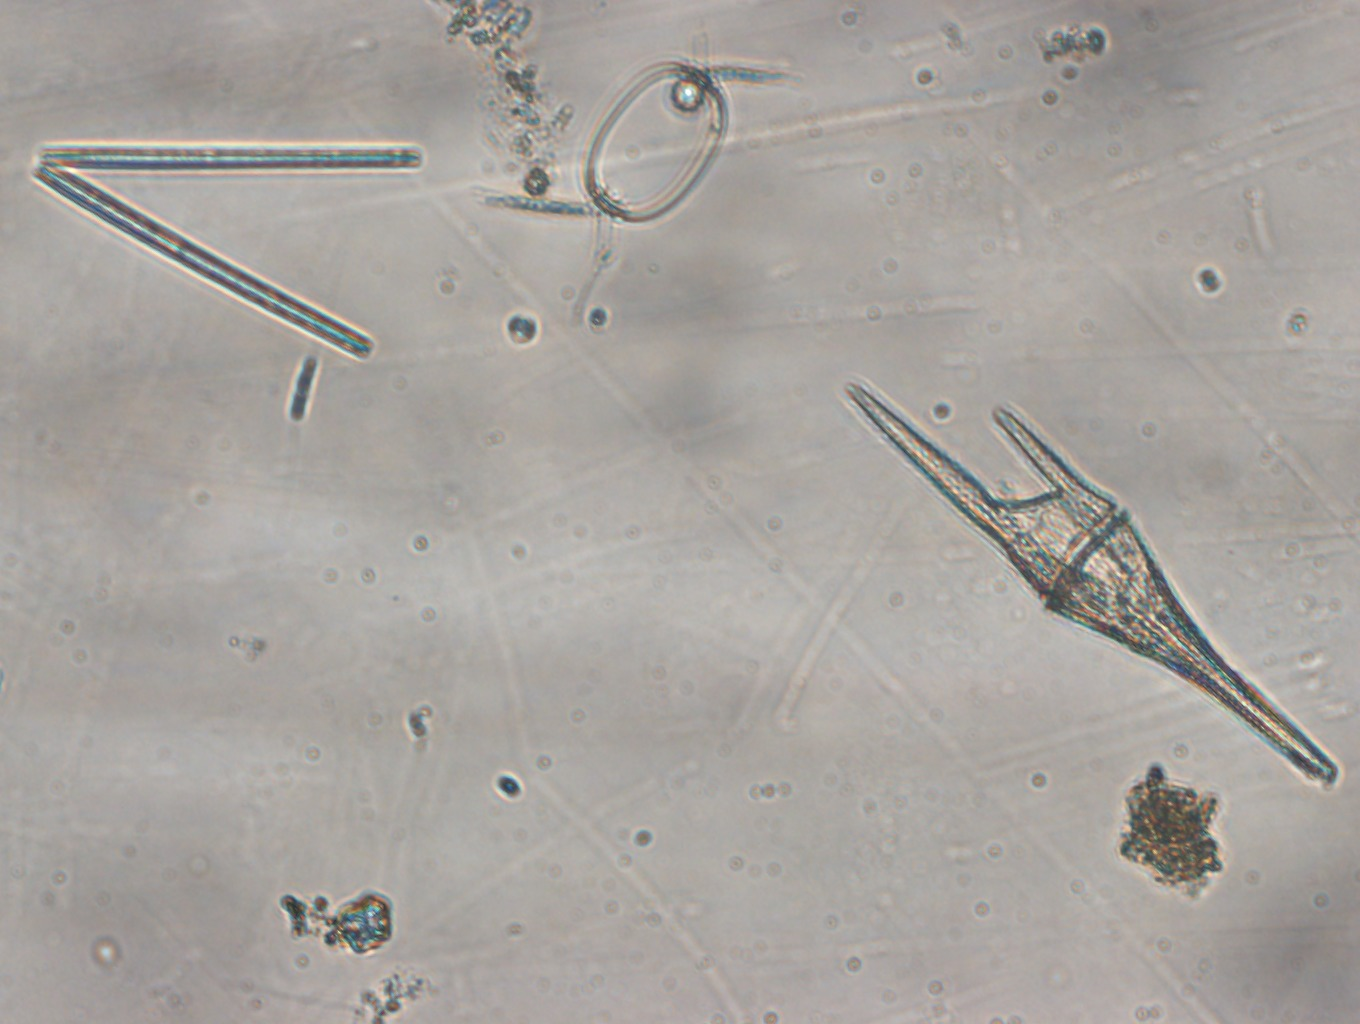ceratium furca: (835, 375, 1344, 794)
chaetoceros: (464, 23, 808, 329)
thalassionema nitzschioides: (22, 136, 430, 366)
